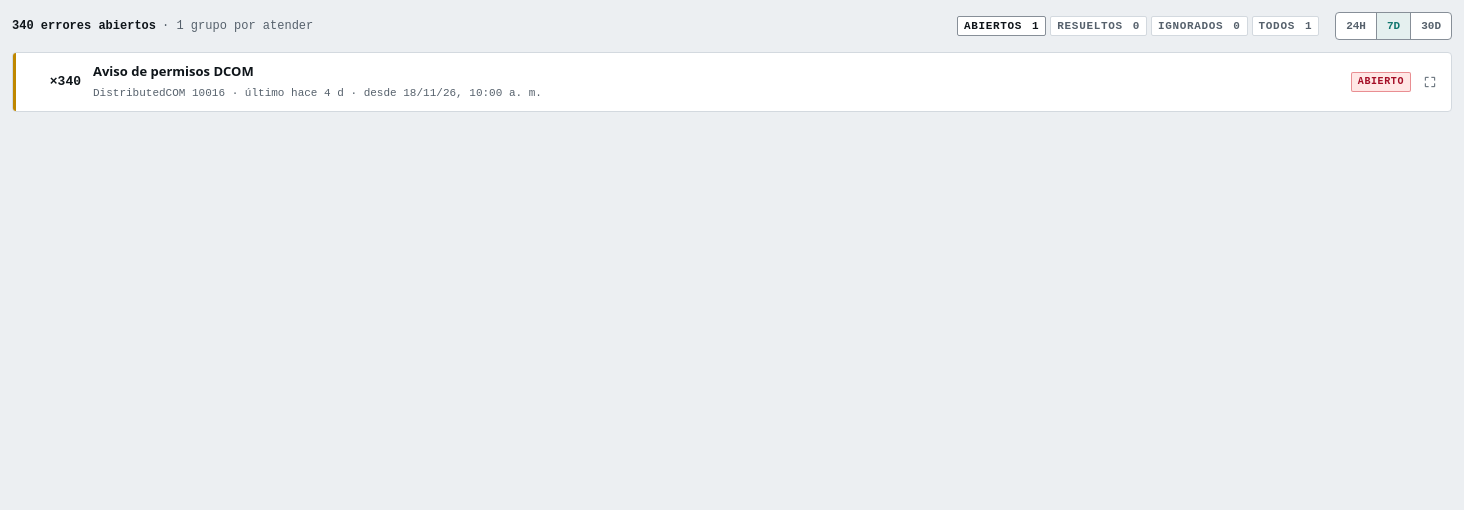
it: Errores del equipo (decisión 91) › el ruido de Windows se propone ignorar en toda la empresa
Later steps or results of the test are not shown.
Click the button "Aviso de permisos DCOM".
click(173, 71)  # box [13,53,1451,111]
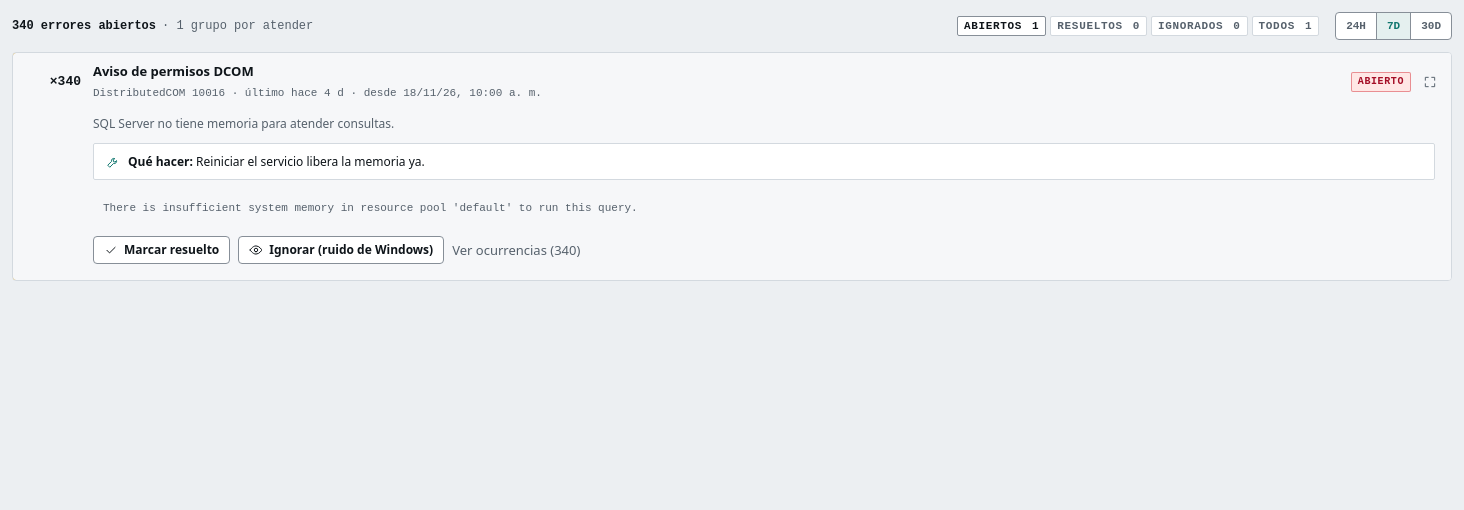
Click the button "Ignorar (ruido de Windows)".
click(341, 250)  # box [238,236,444,264]
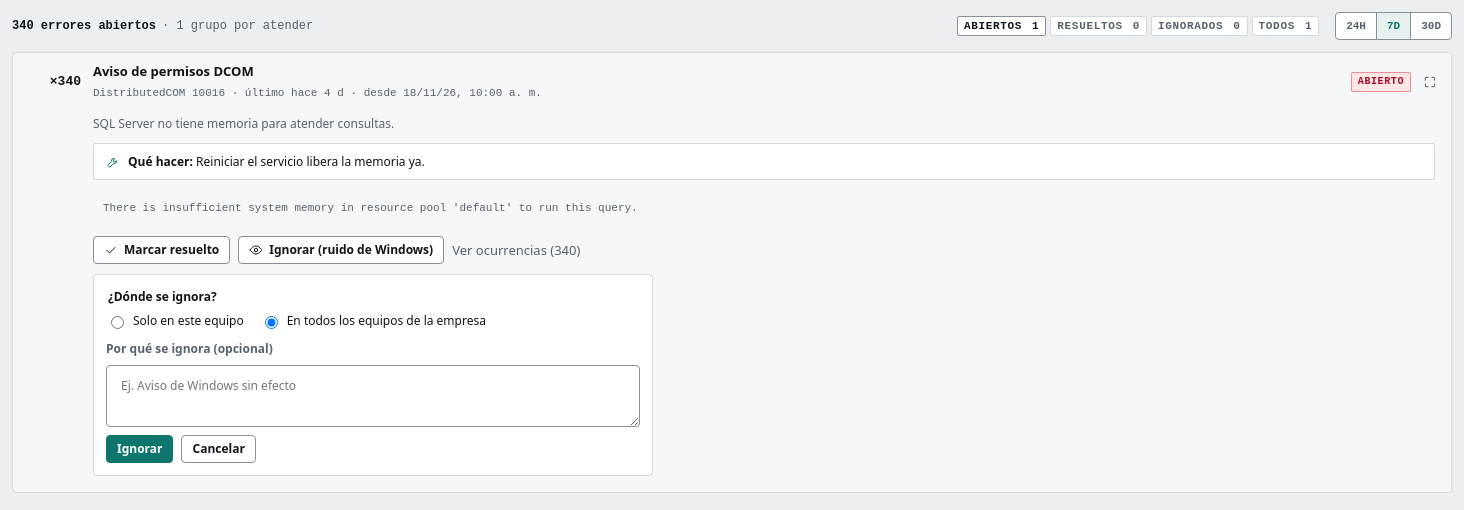
Result: the radio button labelled "En todos los equipos de la empresa" is checked at [265,316,278,329]
